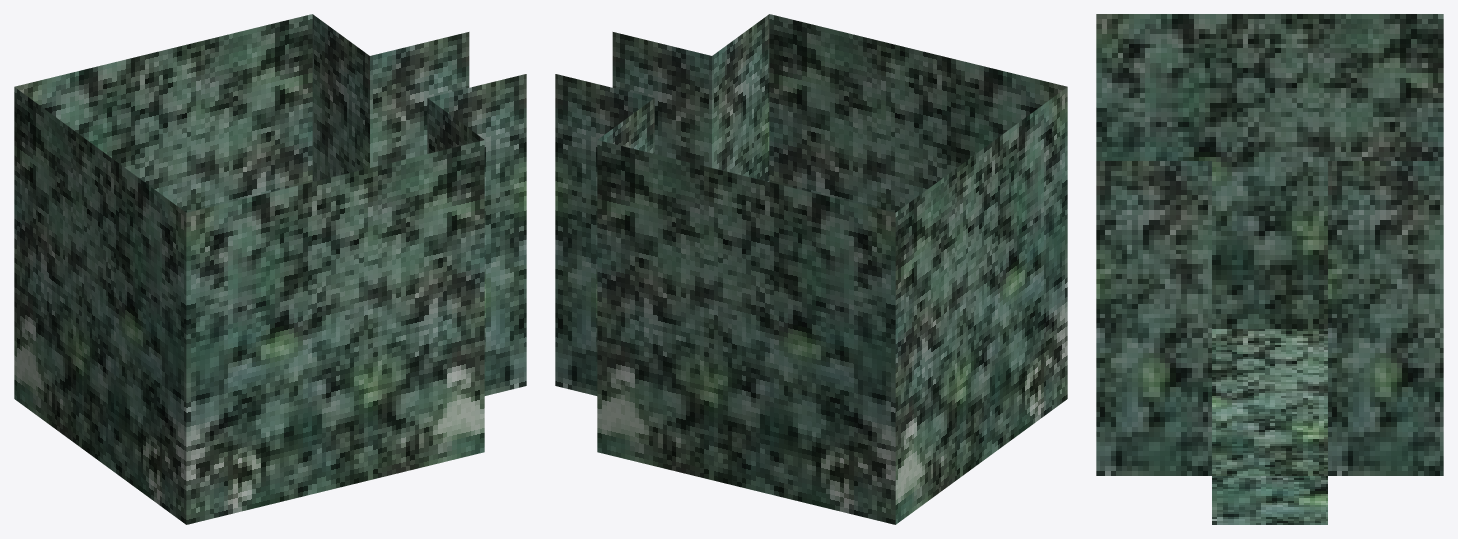
The model's file is Sala3.fbx.
3 views of the same model, side by side, from view 1: azimuth 30°, elevation 25°; view 2: azimuth 150°, elevation 25°; view 3: azimuth 270°, elevation 25° (orthographic).
Parts seen in each view (by area): view 1: wall03; view 2: wall03; view 3: wall03, ground003.
Part boxes in pixels (x1,y1,x2,y2): wall03: (14,14,526,524); wall03: (555,14,1067,524); wall03: (1096,14,1443,475); ground003: (1212,329,1327,524).
Size of the model in its own units: 200 by 150 by 150.
